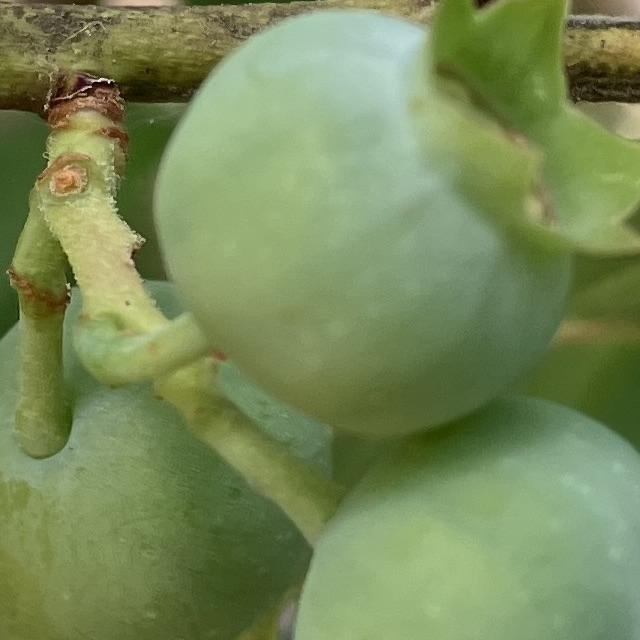Blueberries: (147, 0, 640, 442), (285, 393, 640, 640)
